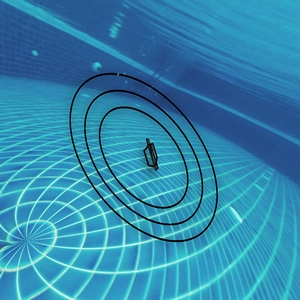circle: (56, 49, 224, 262)
submarine: (143, 141, 159, 167)
